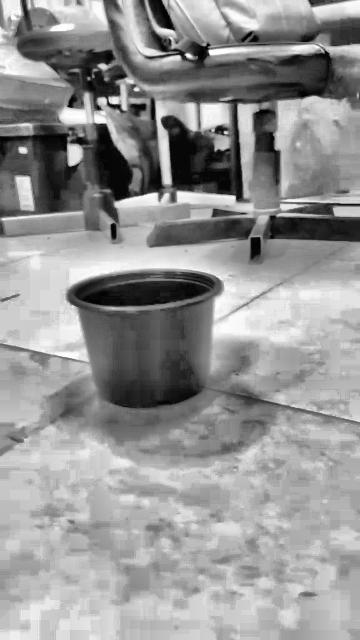pot: (69, 269, 221, 408)
